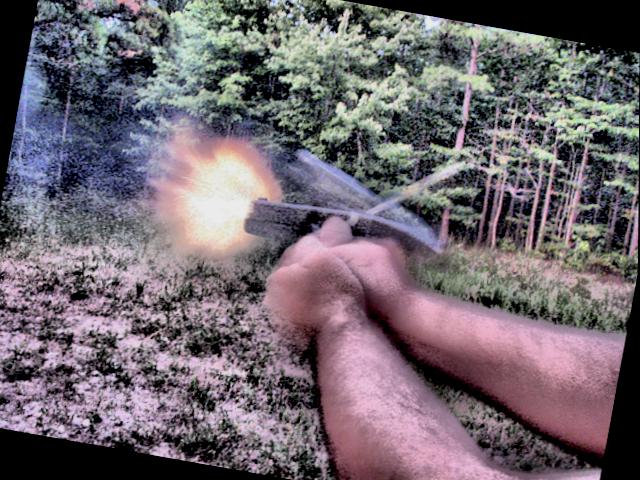pistol: (228, 184, 424, 300)
